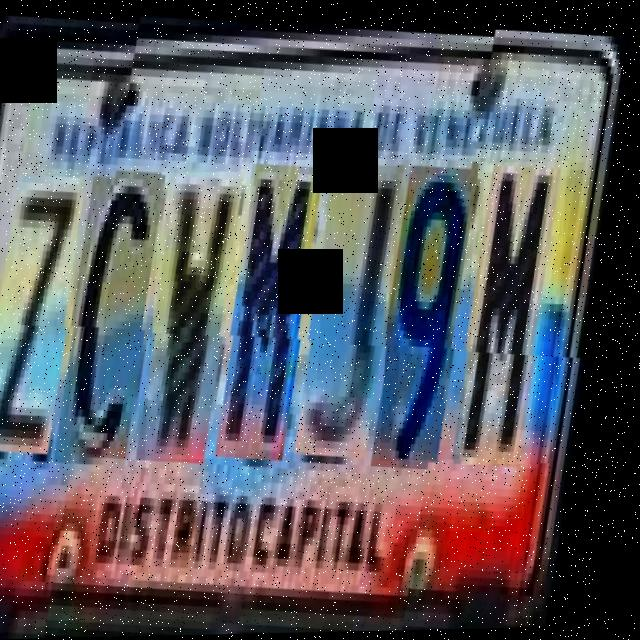9: (386, 161, 490, 464)
C: (70, 168, 175, 458)
J: (309, 157, 415, 454)
M: (467, 164, 571, 468), (230, 162, 332, 457)
W: (150, 172, 254, 461)
Z: (0, 165, 97, 447)
